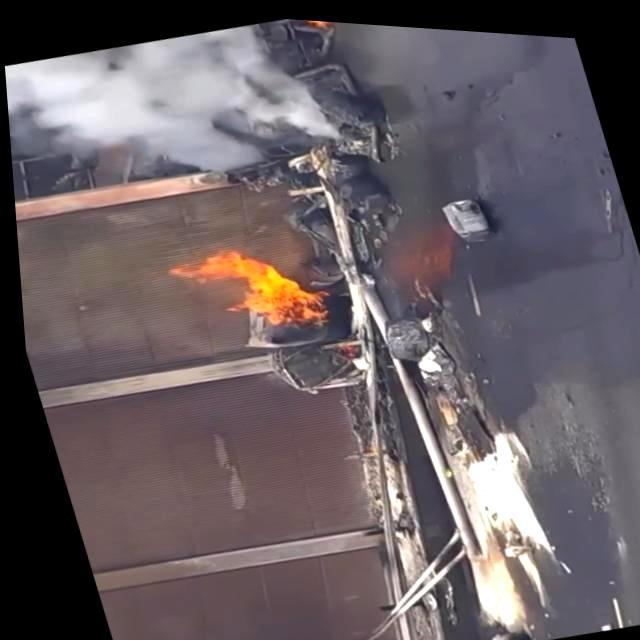fire: (152, 216, 328, 346)
